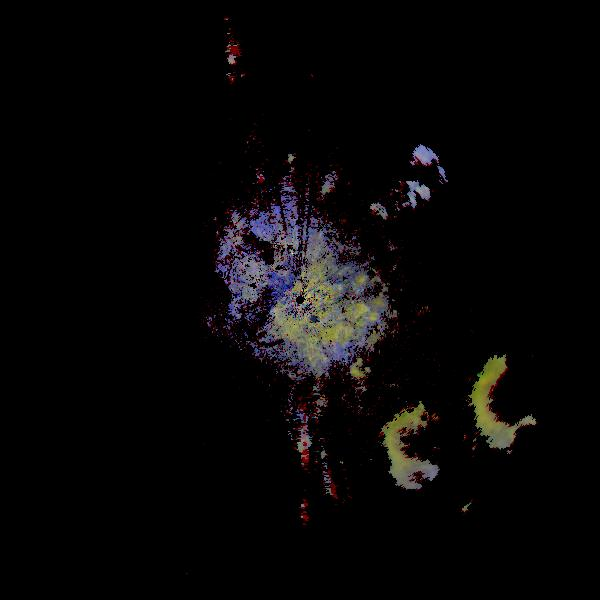roost: (343, 128, 514, 299), (452, 301, 600, 493), (370, 384, 505, 519)
